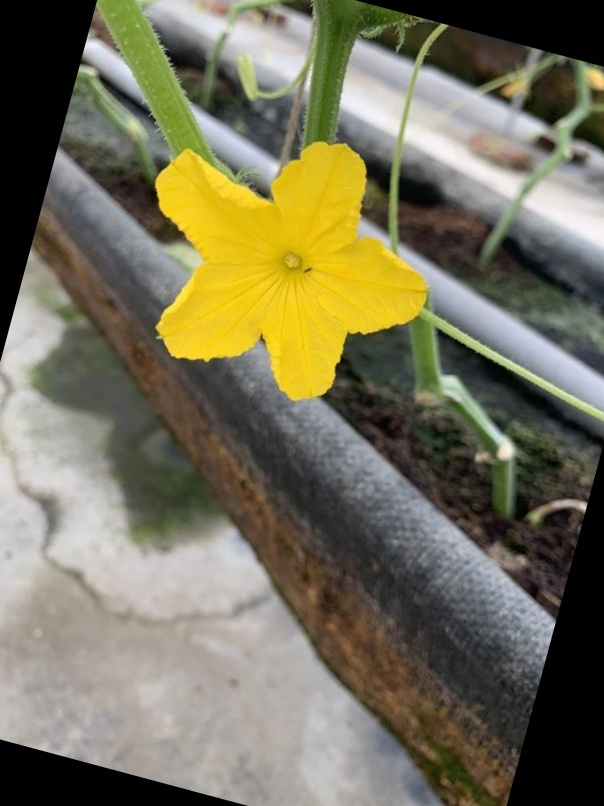flowering: (146, 112, 436, 406)
mature: (148, 127, 434, 406)
